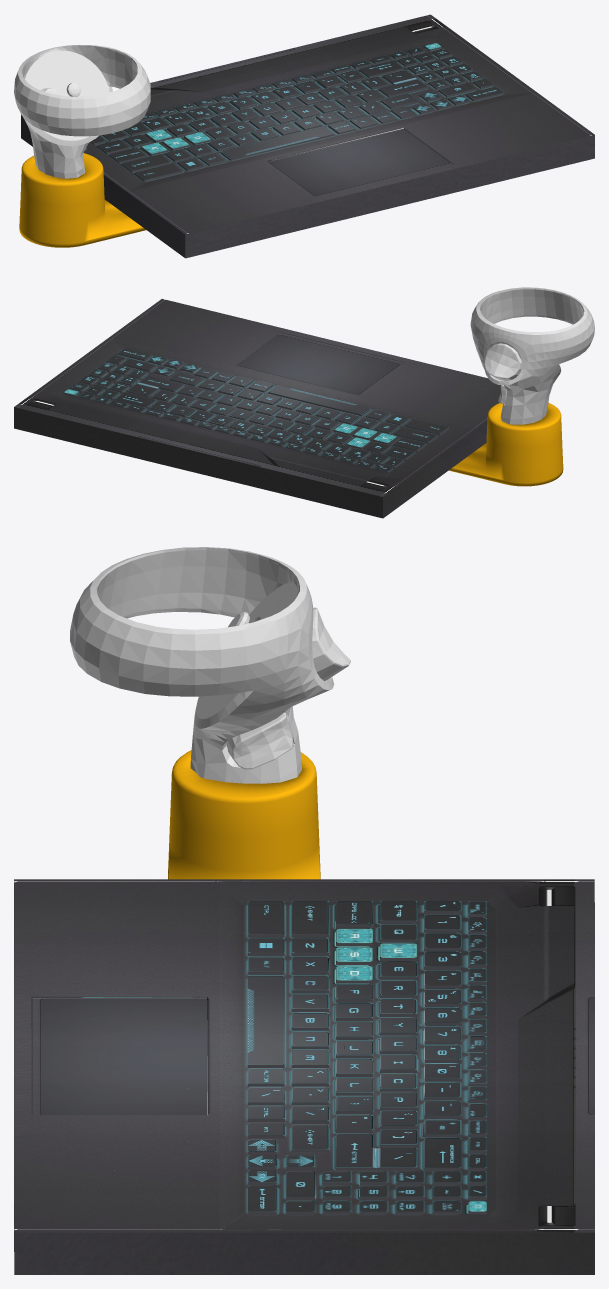
File: keyboard.fbx
3 renders of one model, top to bottom at view 1: azimuth 30°, elevation 25°; view 2: azimuth 150°, elevation 25°; view 3: azimuth 270°, elevation 25°, orthographic. The views are drawn at different scales.
Visible parts, largest first — view 1: keyboard.001, quest2_controllers_div0, 3dprint_holder, space, Enter, left_shift, left_ctrl, bck_space, right_shift, caps_lck, enter_num; view 2: keyboard.001, quest2_controllers_div0, 3dprint_holder, space, Enter, left_ctrl, left_shift, bck_space; view 3: keyboard.001, quest2_controllers_div0, 3dprint_holder, space, Enter, left_ctrl, left_shift, bck_space, right_shift, caps_lck.
Part boxes in pixels (x1,y1,x2,y2): keyboard.001: (21,14,594,258); quest2_controllers_div0: (14,45,150,178); 3dprint_holder: (19,153,145,247); space: (220,126,334,160); Enter: (378,70,428,97); left_shift: (121,154,170,172); left_ctrl: (134,163,182,181); bck_space: (358,60,403,78); right_shift: (380,93,419,109); caps_lck: (109,148,146,163); enter_num: (465,86,504,101); keyboard.001: (14,299,500,518); quest2_controllers_div0: (470,287,594,424); 3dprint_holder: (449,403,563,486); space: (268,385,370,416); Enter: (127,375,183,396); left_ctrl: (404,418,448,435); left_shift: (393,426,437,443); bck_space: (116,392,156,407); keyboard.001: (14,879,594,1274); quest2_controllers_div0: (70,547,350,783); 3dprint_holder: (168,750,320,879); space: (247,975,284,1067); Enter: (336,1133,417,1170); left_ctrl: (247,901,284,937); left_shift: (291,901,328,937); bck_space: (424,1138,461,1170); right_shift: (291,1125,328,1152); caps_lck: (336,901,372,927).
Size of the model in its own units: 44.87 by 13.87 by 24.5.
3 materials, 1 textured.
